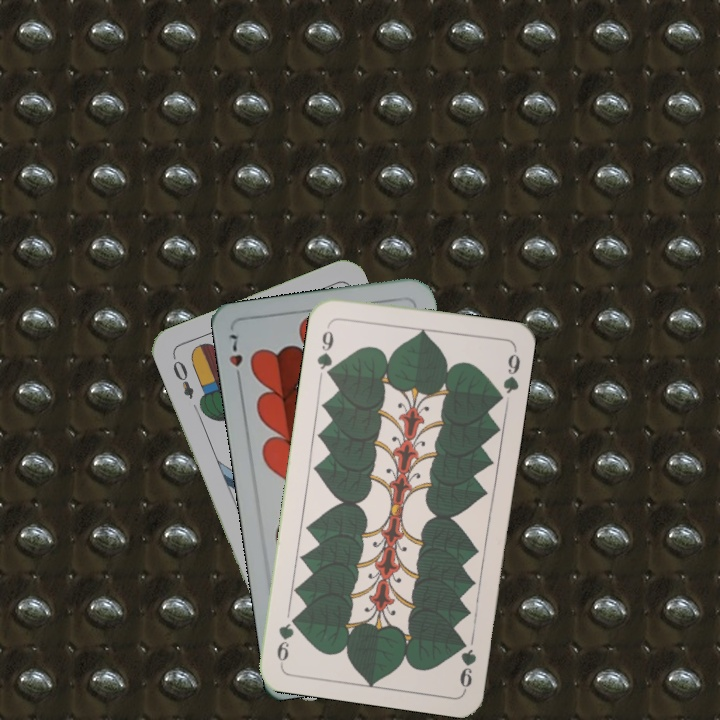EO: (168, 351, 197, 402)
G9: (313, 319, 337, 380), (455, 633, 479, 692)
H7: (225, 330, 245, 386)
